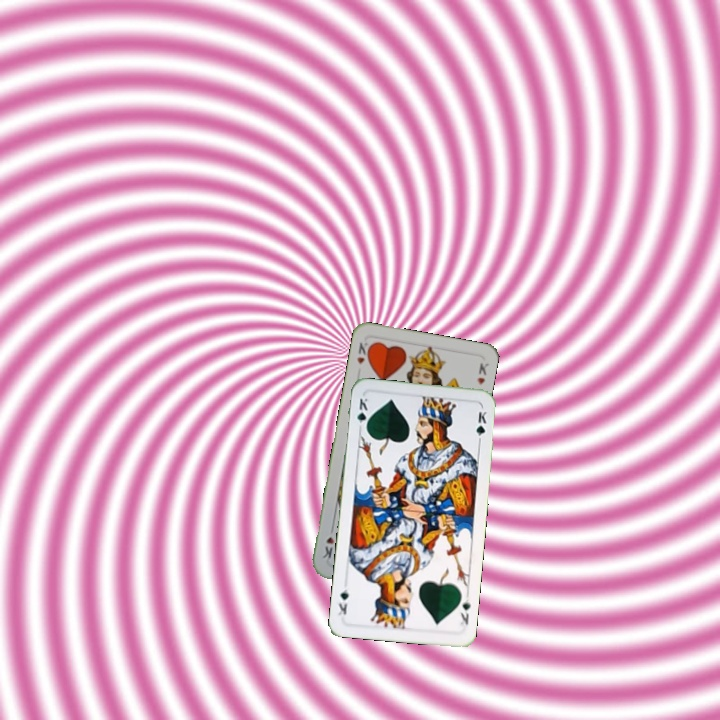GK: (353, 394, 370, 433), (456, 594, 473, 627)
HK: (353, 338, 374, 367)
